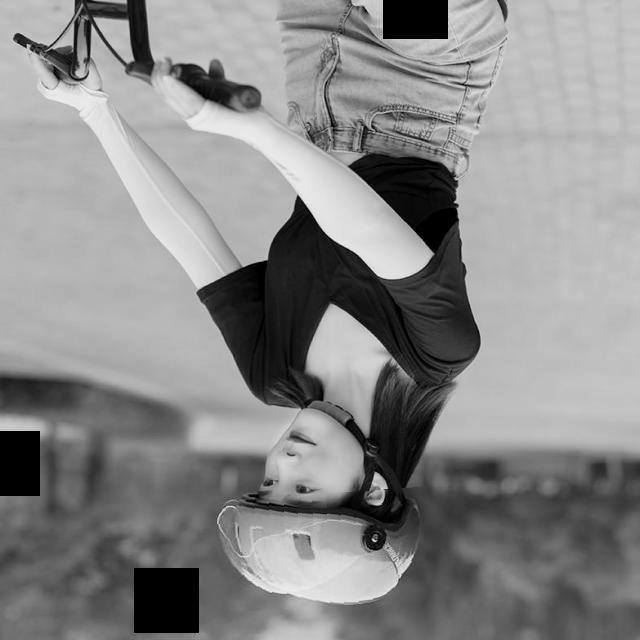helmet: (216, 490, 426, 610)
